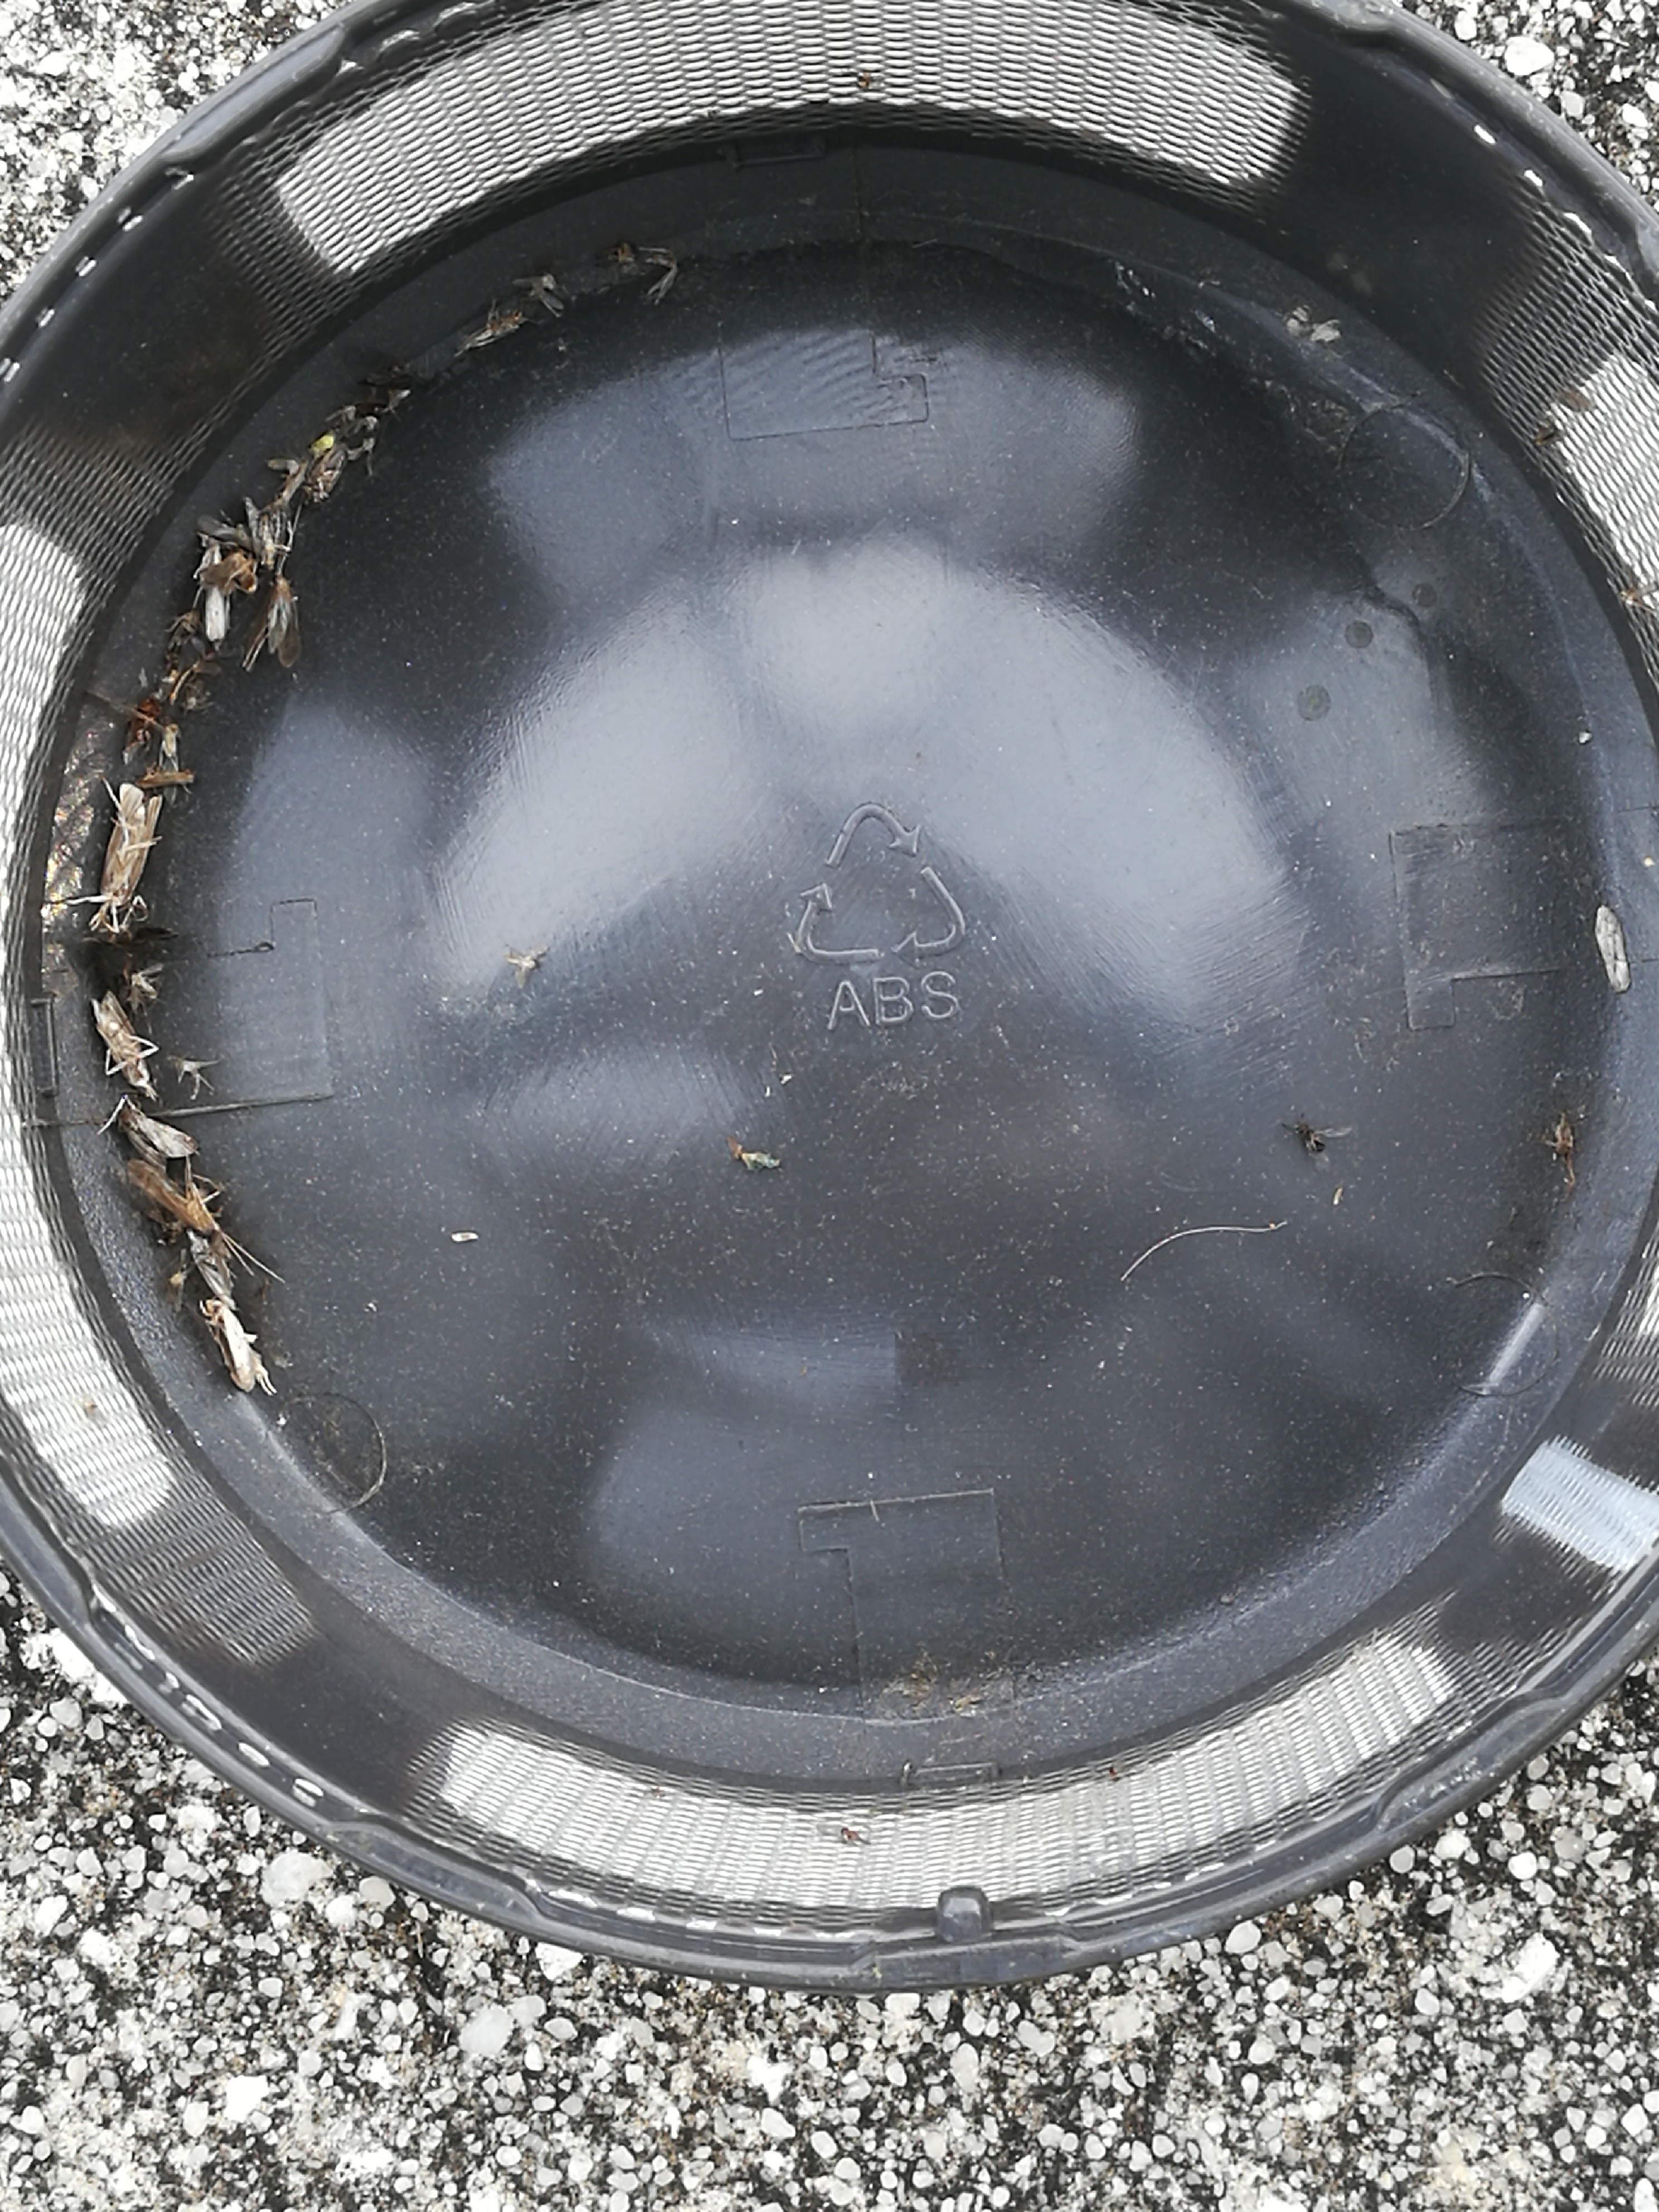mosquito: (105, 784, 162, 902), (125, 1160, 213, 1235), (91, 989, 148, 1089), (200, 1299, 256, 1393), (200, 536, 228, 639)
moth: (117, 1109, 200, 1174), (240, 580, 298, 667), (185, 1224, 237, 1306), (242, 496, 289, 575)
